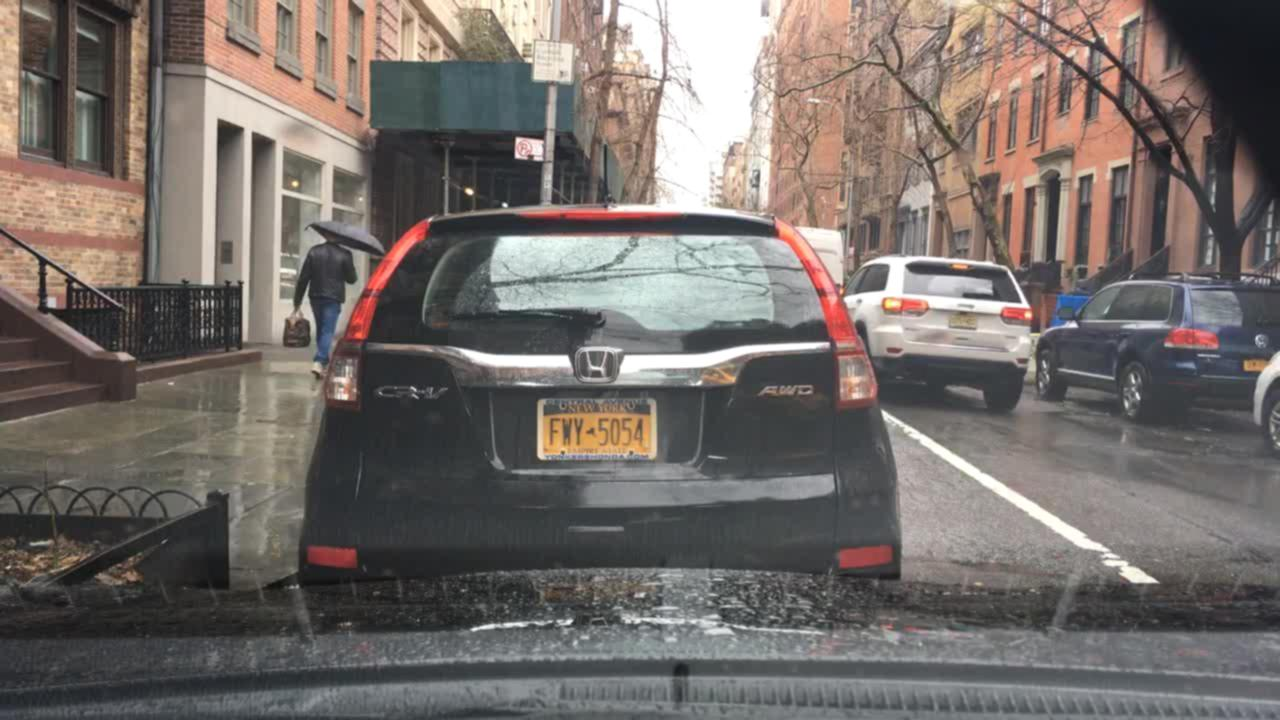Honda: (559, 342, 648, 394)
Volkswagen: (1249, 329, 1272, 352)
